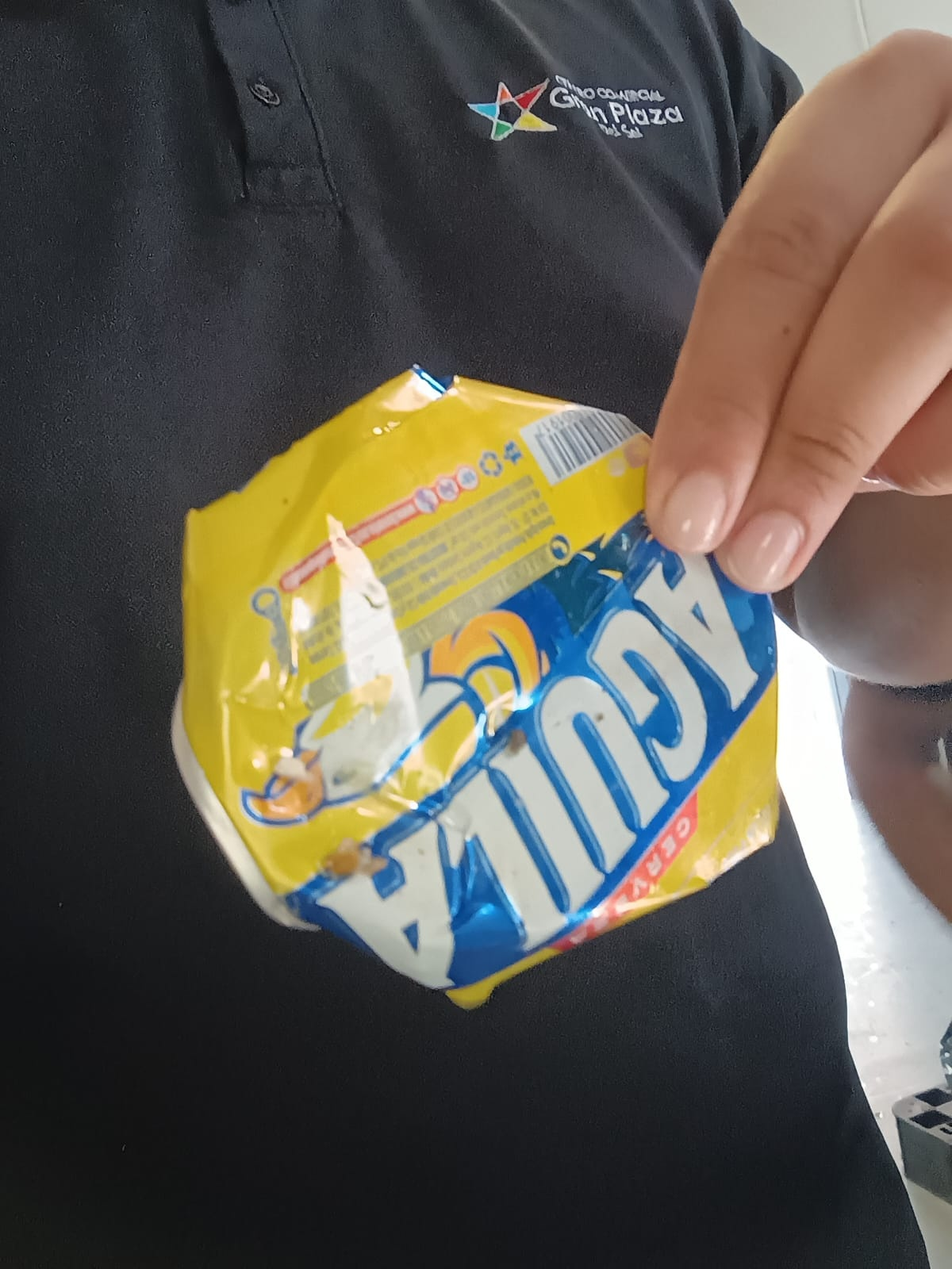Metal: (166, 368, 782, 1012)
